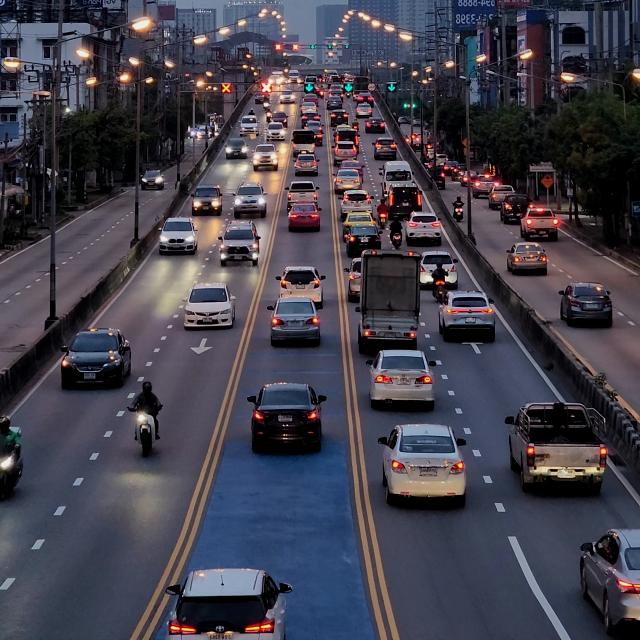Vehicle: (156, 563, 296, 640), (500, 399, 610, 496), (374, 422, 466, 507), (354, 252, 424, 354), (242, 382, 327, 452), (58, 327, 136, 392), (366, 351, 440, 414), (436, 292, 494, 343), (179, 280, 234, 332), (556, 283, 615, 328), (266, 300, 322, 343), (216, 218, 259, 268), (155, 214, 199, 257), (504, 238, 549, 276), (519, 207, 561, 240), (403, 210, 441, 246), (344, 223, 383, 256), (232, 184, 267, 218), (188, 182, 221, 218), (286, 206, 321, 235)
